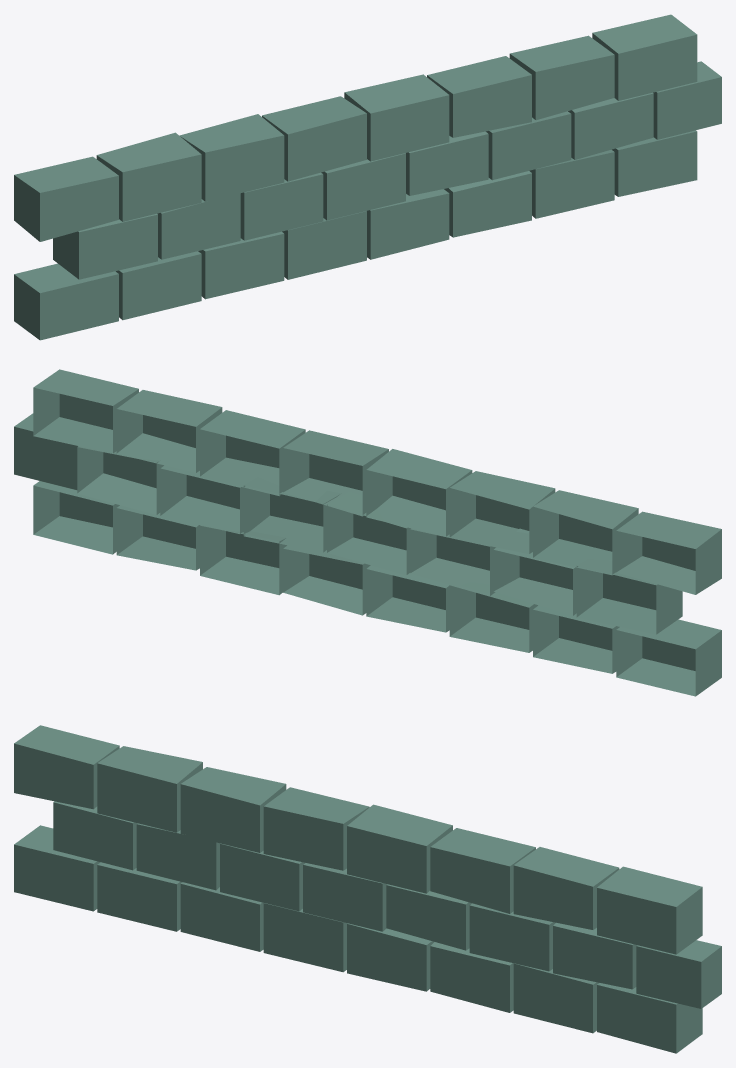
File: Bricks_Large.glb
3 views of the same model, one above another, from view 1: azimuth 30°, elevation 25°; view 2: azimuth 150°, elevation 25°; view 3: azimuth 330°, elevation 25° (orthographic).
Visible parts, largest first — view 1: Bricks_Large; view 2: Bricks_Large; view 3: Bricks_Large.
Part boxes in pixels (x1,y1,x2,y2): Bricks_Large: (14, 14, 721, 340); Bricks_Large: (14, 369, 721, 696); Bricks_Large: (14, 725, 721, 1053).
Bounding box in the file's own units: 2.06 × 0.4318 × 0.1364.
1 material, 1 textured.
